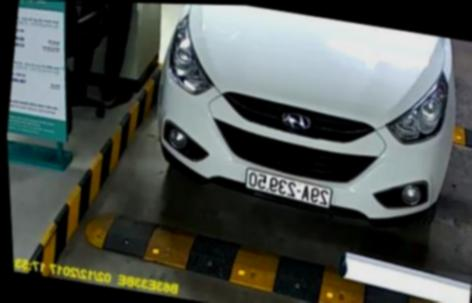License_Plate: (232, 168, 343, 211)
